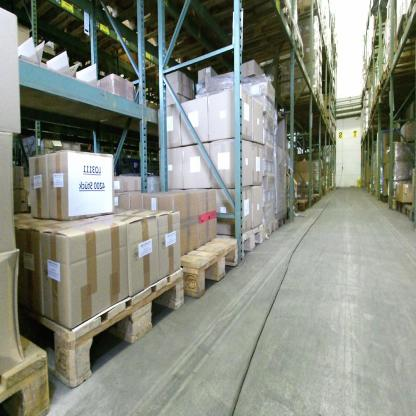pallet: (6, 256, 192, 381), (2, 320, 57, 415), (181, 225, 241, 310), (200, 4, 294, 36), (221, 23, 306, 58), (224, 217, 267, 265), (280, 88, 322, 112), (384, 50, 415, 80), (295, 3, 323, 32), (379, 71, 415, 90), (396, 19, 416, 51), (374, 82, 414, 98), (370, 95, 406, 110), (281, 104, 325, 116), (365, 114, 400, 126), (260, 220, 277, 243), (296, 117, 328, 128), (283, 200, 300, 220), (302, 121, 329, 132), (401, 3, 416, 22), (369, 105, 397, 115), (271, 215, 287, 230), (294, 196, 310, 211), (395, 197, 407, 216), (404, 203, 414, 222), (381, 193, 390, 204), (314, 191, 322, 203), (310, 196, 314, 207)
